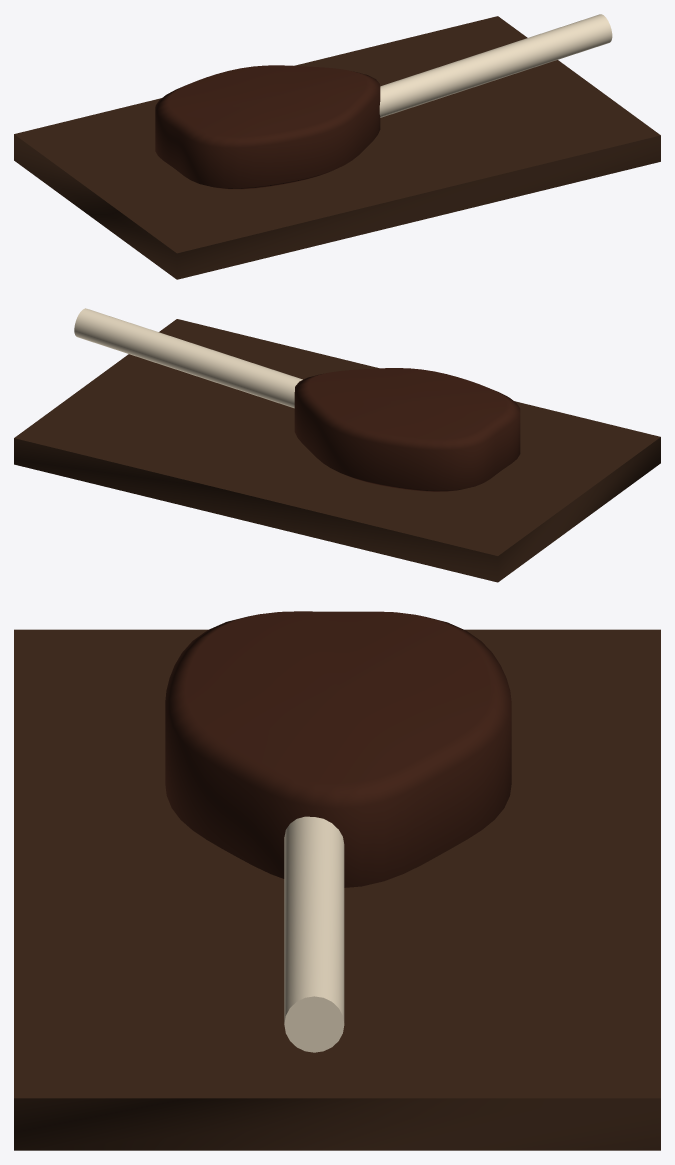
File: tomahawk.glb
3 views of the same model, one above another, from view 1: azimuth 30°, elevation 25°; view 2: azimuth 150°, elevation 25°; view 3: azimuth 270°, elevation 25° (orthographic). The views are drawn at different scales.
Visible parts, largest first — view 1: darkWood, crust, bone; view 2: darkWood, crust, bone; view 3: darkWood, crust, bone.
Part boxes in pixels (left/top/right/bottom): darkWood: left=14, top=16, right=660, bottom=279; crust: left=155, top=65, right=380, bottom=189; bone: left=379, top=14, right=612, bottom=117; darkWood: left=14, top=319, right=660, bottom=582; crust: left=294, top=368, right=520, bottom=491; bone: left=74, top=308, right=302, bottom=408; darkWood: left=14, top=629, right=660, bottom=1150; crust: left=165, top=611, right=511, bottom=887; bone: left=284, top=816, right=344, bottom=1052.
Size of the model in its own units: 0.5003 by 0.0821 by 0.28.
